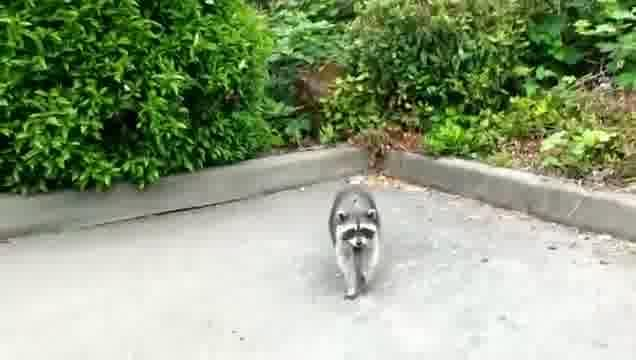raccoon: (327, 185, 384, 302)
